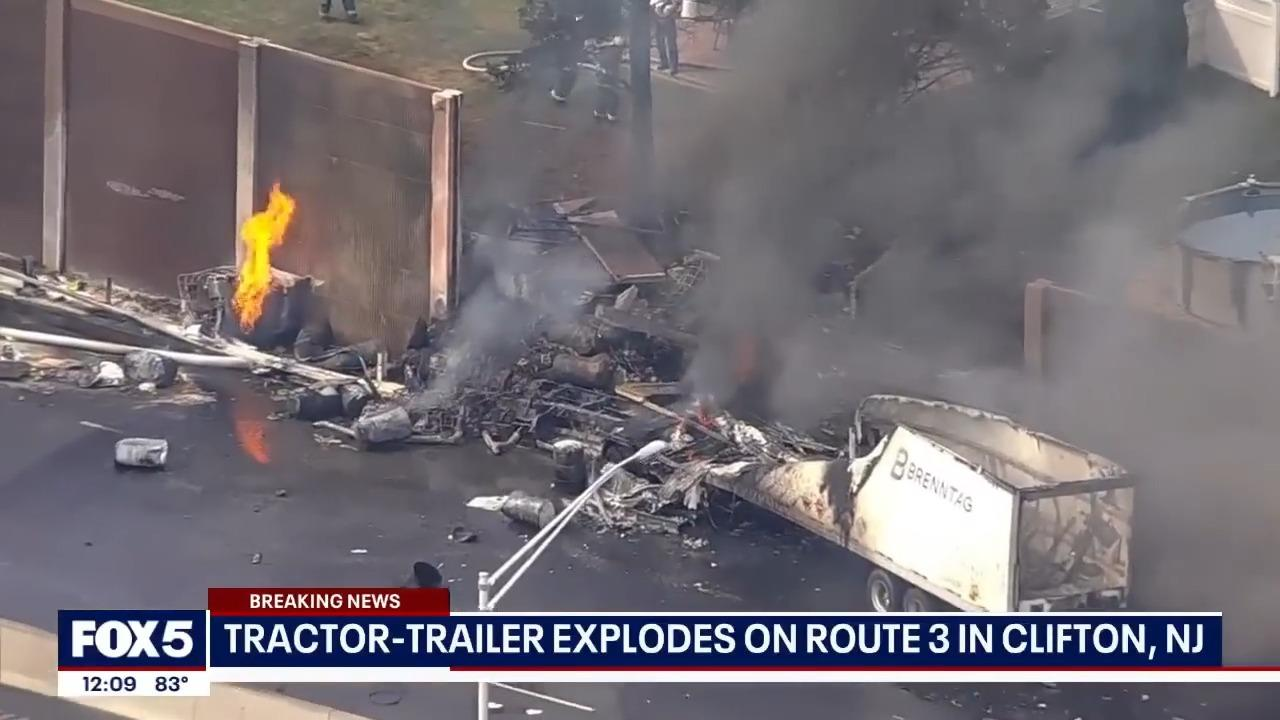fire: (228, 173, 306, 332)
